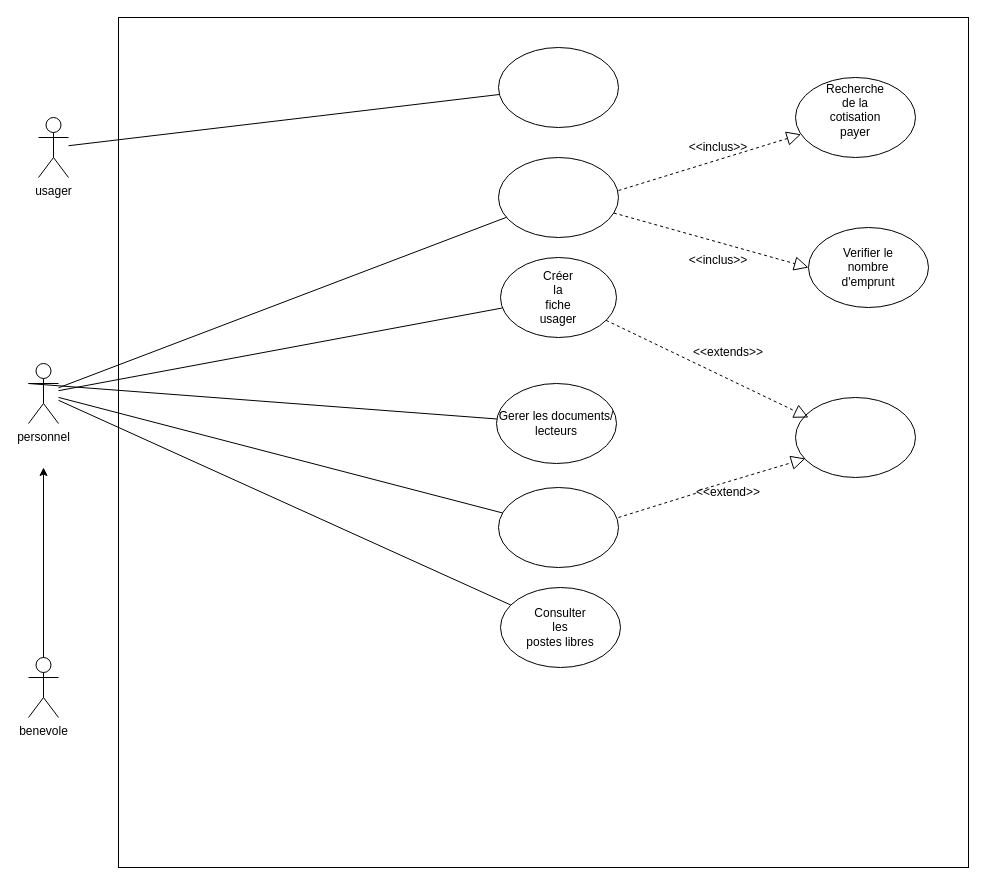
The diagram is 986 pixels wide and 885 high, and some of its shapes have lost their labels. The centre of each missing label's shape, as x and y in pixels:
"Consulter des documents" belongs at [558,87].
"Consulter les fiches des inscrits" belongs at [558,527].
"Enregistrer les cotisations" belongs at [855,437].
"Enregistrer les emprunts" belongs at [558,197].
